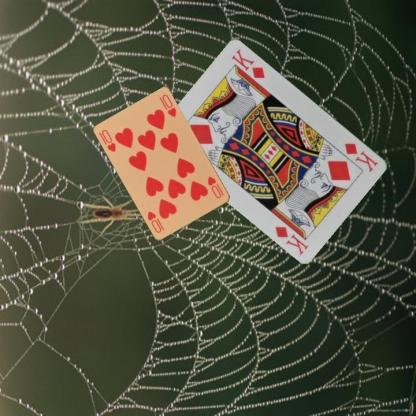10h: (205, 174, 225, 200), (100, 127, 118, 154)
Kd: (342, 140, 380, 173)
